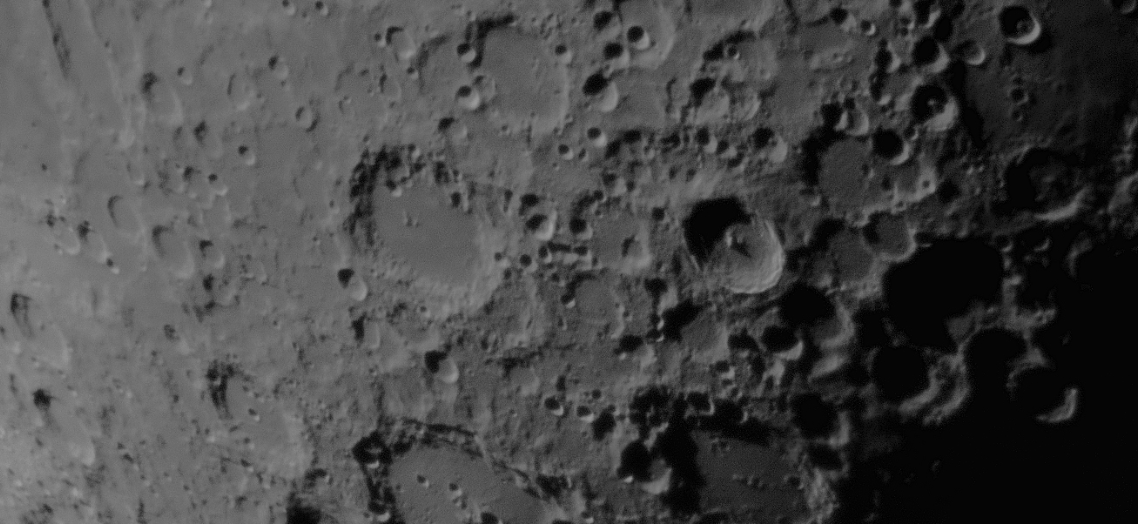crater: (309, 141, 521, 321), (162, 358, 331, 481), (670, 182, 791, 301), (998, 351, 1104, 451), (600, 437, 697, 503), (846, 196, 929, 269), (148, 213, 200, 288), (992, 2, 1050, 59), (98, 188, 148, 250), (228, 134, 269, 175), (449, 80, 487, 114), (411, 468, 437, 490)
